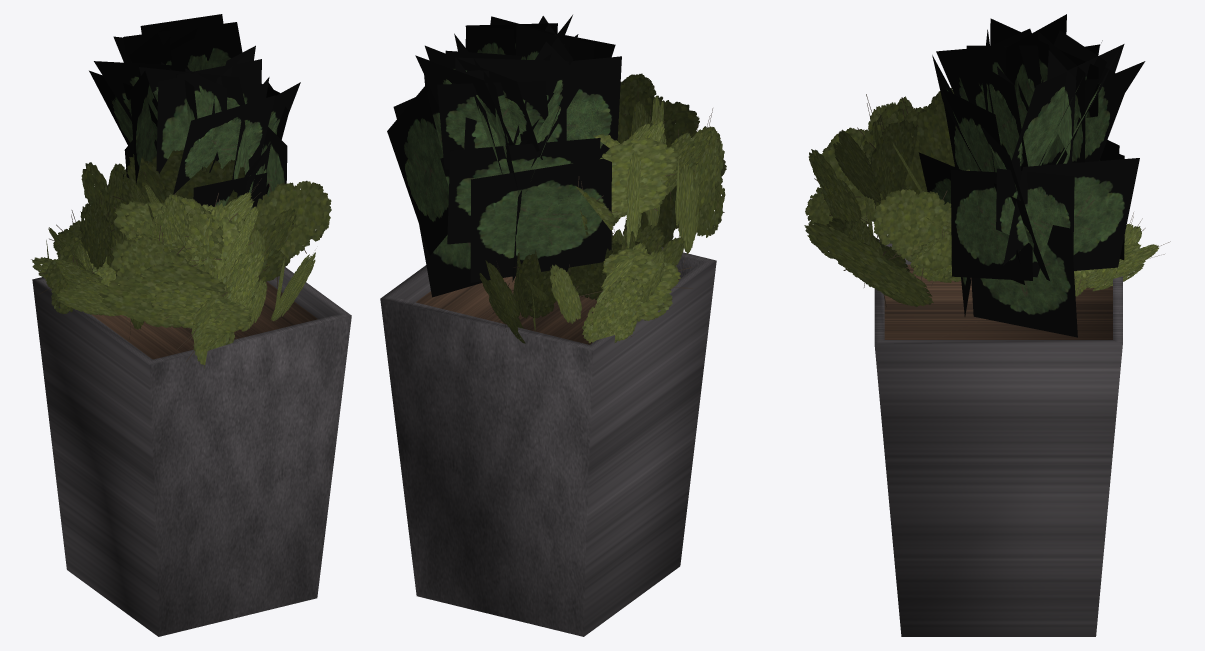
Rendered from SM_Morin_FiorieraC.fbx.
3 views of the same model, side by side, from view 1: azimuth 30°, elevation 25°; view 2: azimuth 150°, elevation 25°; view 3: azimuth 270°, elevation 25° (orthographic). The views are drawn at different scales.
Parts seen in each view (by area): view 1: SM_Morin_FiorieraC; view 2: SM_Morin_FiorieraC; view 3: SM_Morin_FiorieraC.
Part boxes in pixels (x1,y1,x2,y2): SM_Morin_FiorieraC: [31, 14, 351, 636]; SM_Morin_FiorieraC: [380, 15, 726, 636]; SM_Morin_FiorieraC: [804, 14, 1170, 636].
Size of what is drawn, in the model's own units: 99.17 by 122 by 180.
Materials: 3 (3 with a texture image).
